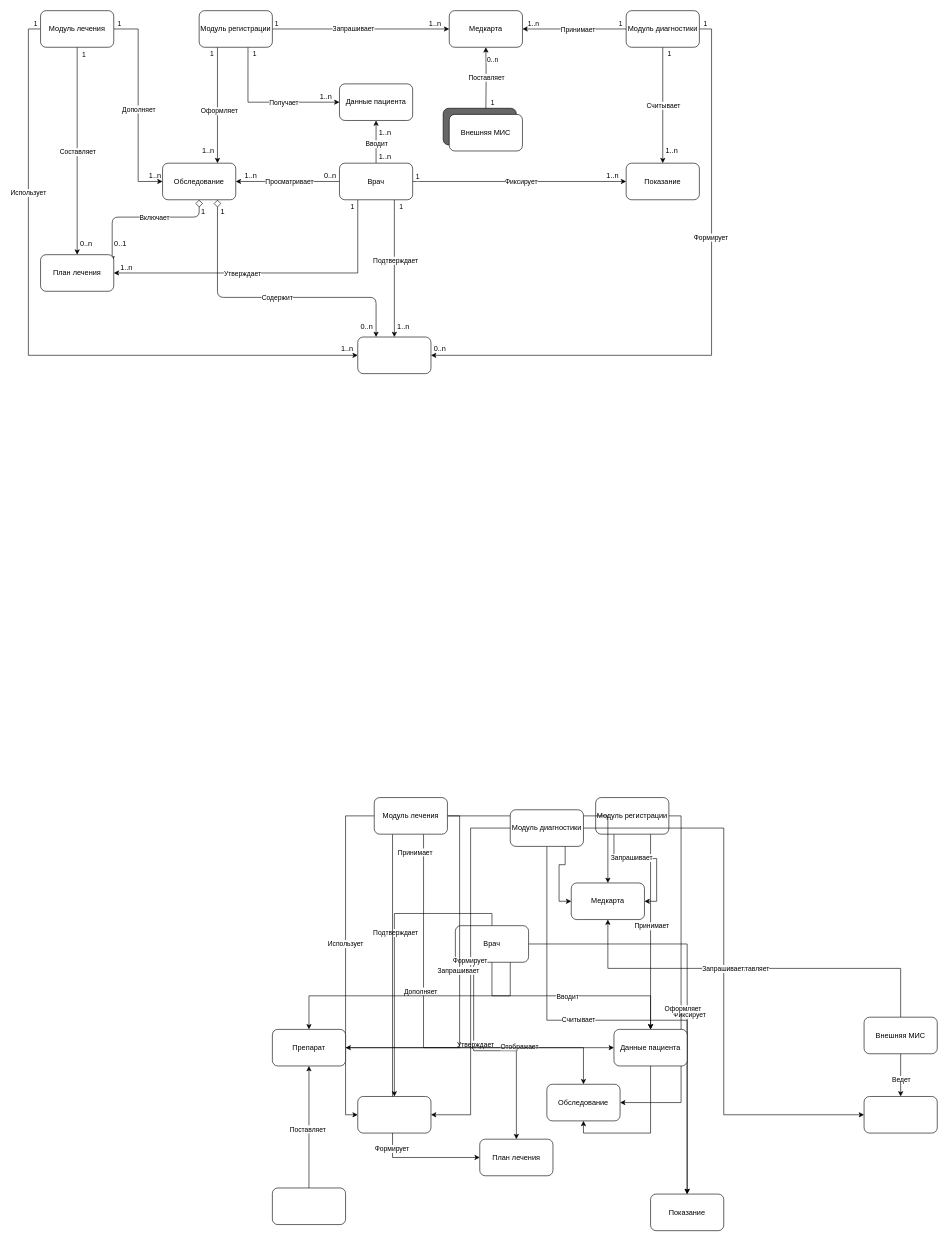
Image size: 948x1241. Some labels were removed from this diagram. The centre of each missing label's shape, as x and y in pixels:
Аптечный сервис: the point at 309,1206
Диагноз: the point at 394,355
Предварительный диагноз: the point at 394,1114
Схожий случай: the point at 900,1114
